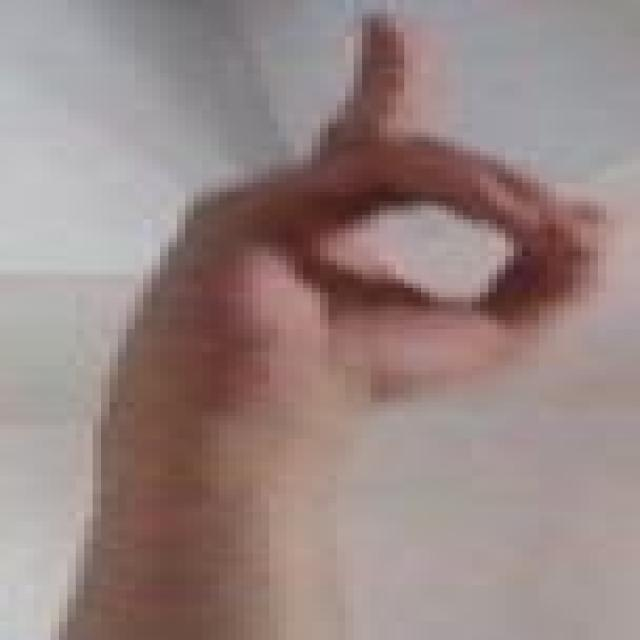D1: (0, 2, 640, 427)
